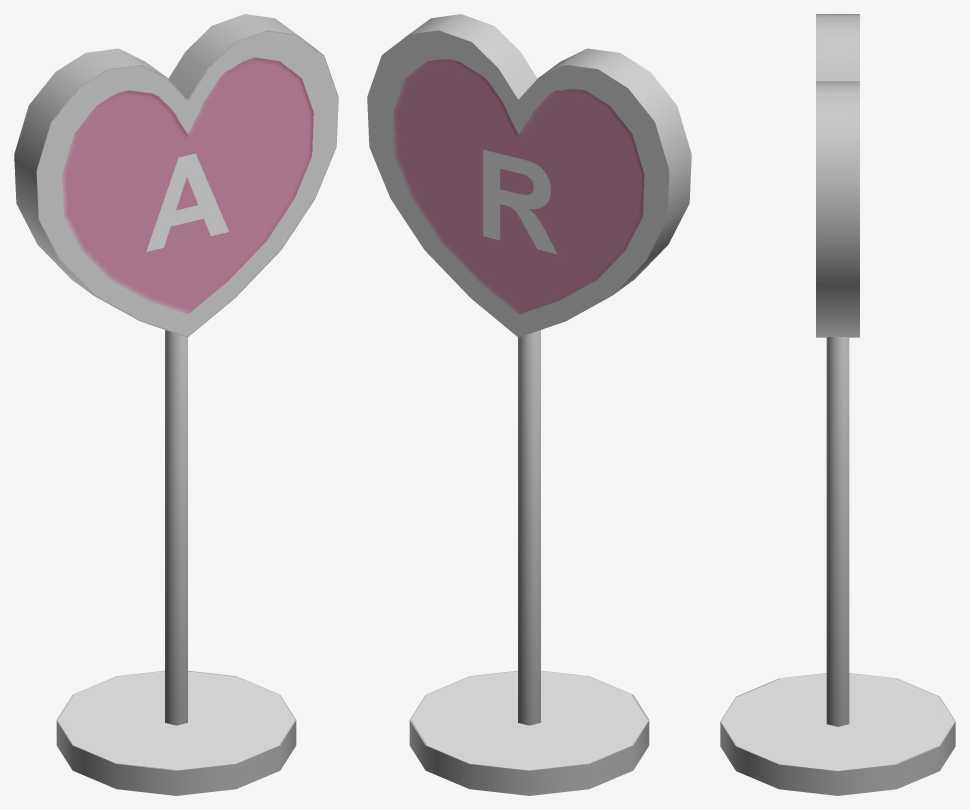
Rendered from papan hati.fbx.
3 renders of one model, left to right at view 1: azimuth 30°, elevation 25°; view 2: azimuth 150°, elevation 25°; view 3: azimuth 270°, elevation 25°, orthographic.
Visible parts, largest first — view 1: papanlove; view 2: papanlove; view 3: papanlove.
Part boxes in pixels (x1,y1,x2,y2): papanlove: (14, 14, 338, 795); papanlove: (367, 14, 691, 795); papanlove: (720, 14, 955, 795).
Size of the model in its own units: 1.76 by 3.91 by 1.21.
1 material, 1 textured.
